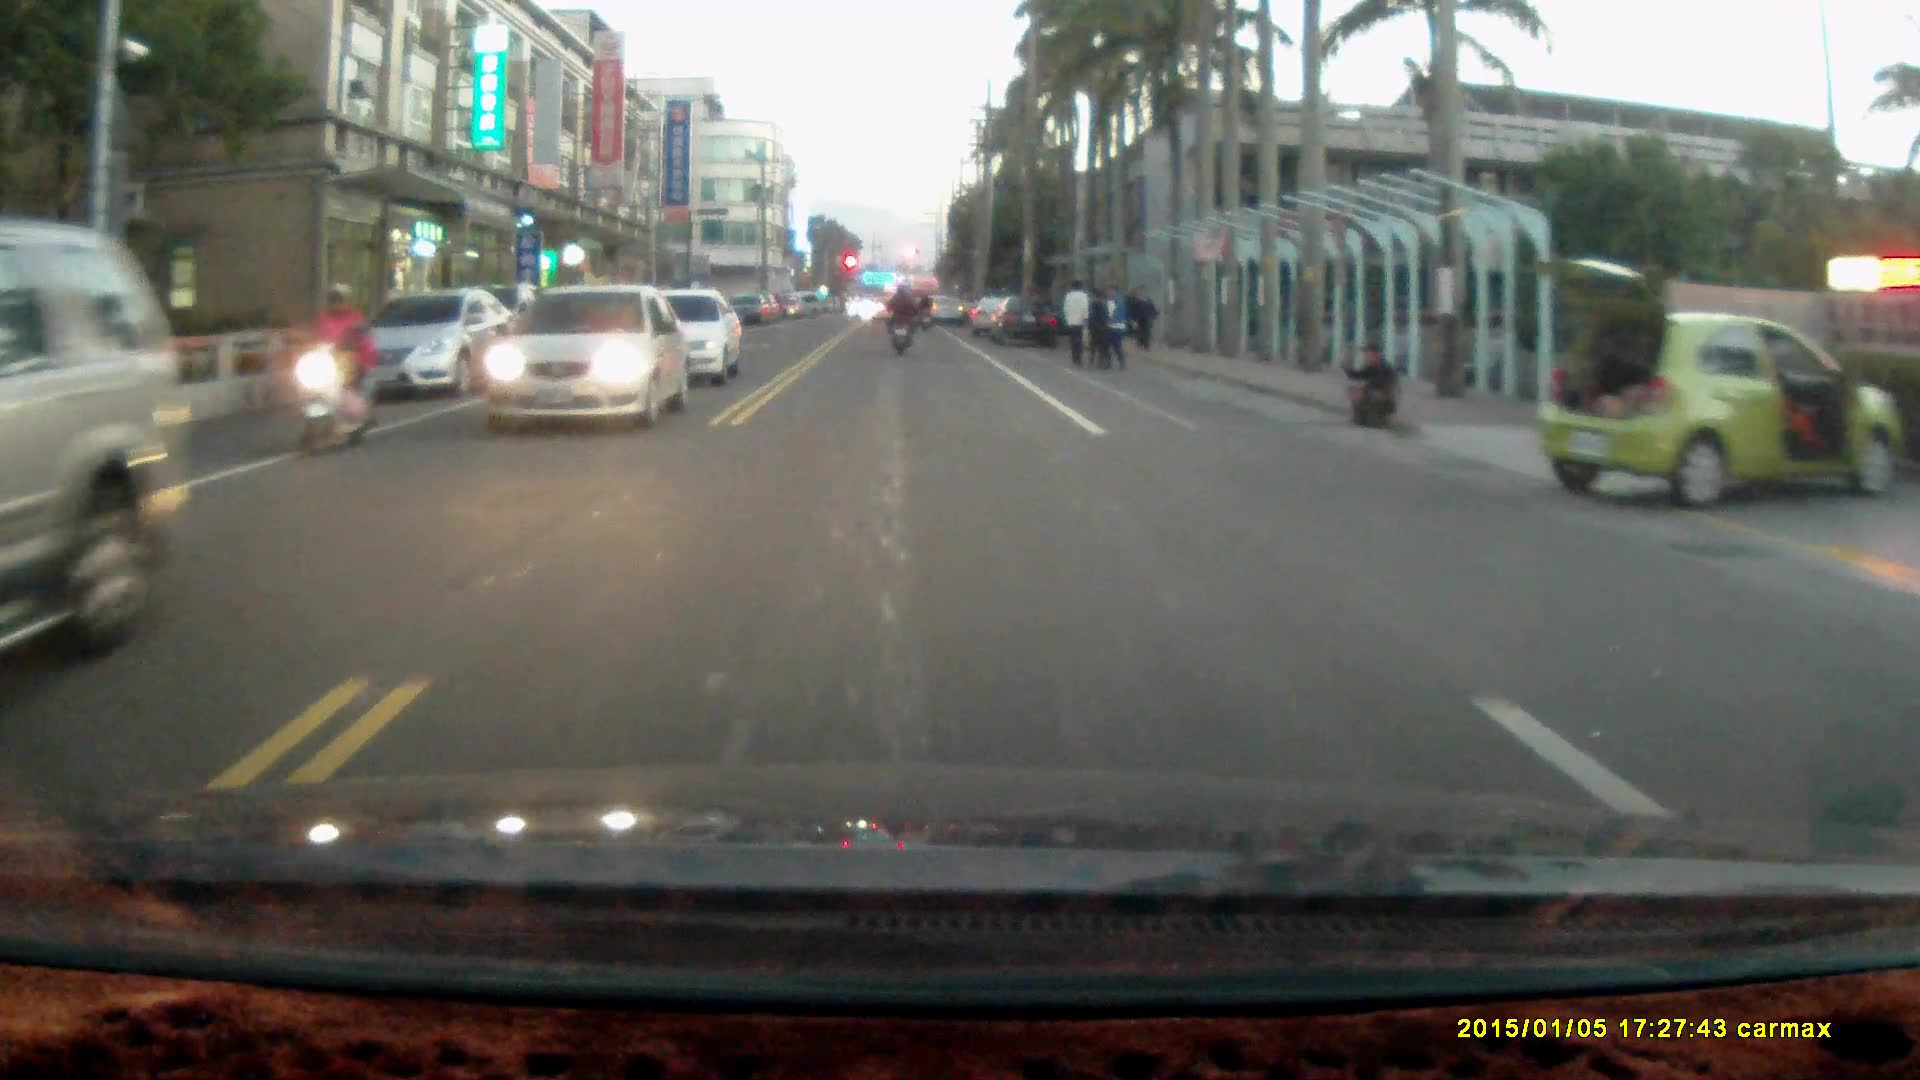pedestrian: (1338, 339, 1400, 430), (1093, 279, 1131, 374), (1061, 277, 1090, 370), (1084, 288, 1113, 375), (1129, 284, 1157, 351)
rider: (293, 281, 380, 457), (881, 283, 915, 359)
vehicle: (1524, 258, 1875, 517), (1, 222, 194, 673), (479, 282, 692, 435), (349, 289, 514, 404), (638, 289, 743, 389), (985, 295, 1061, 347)
